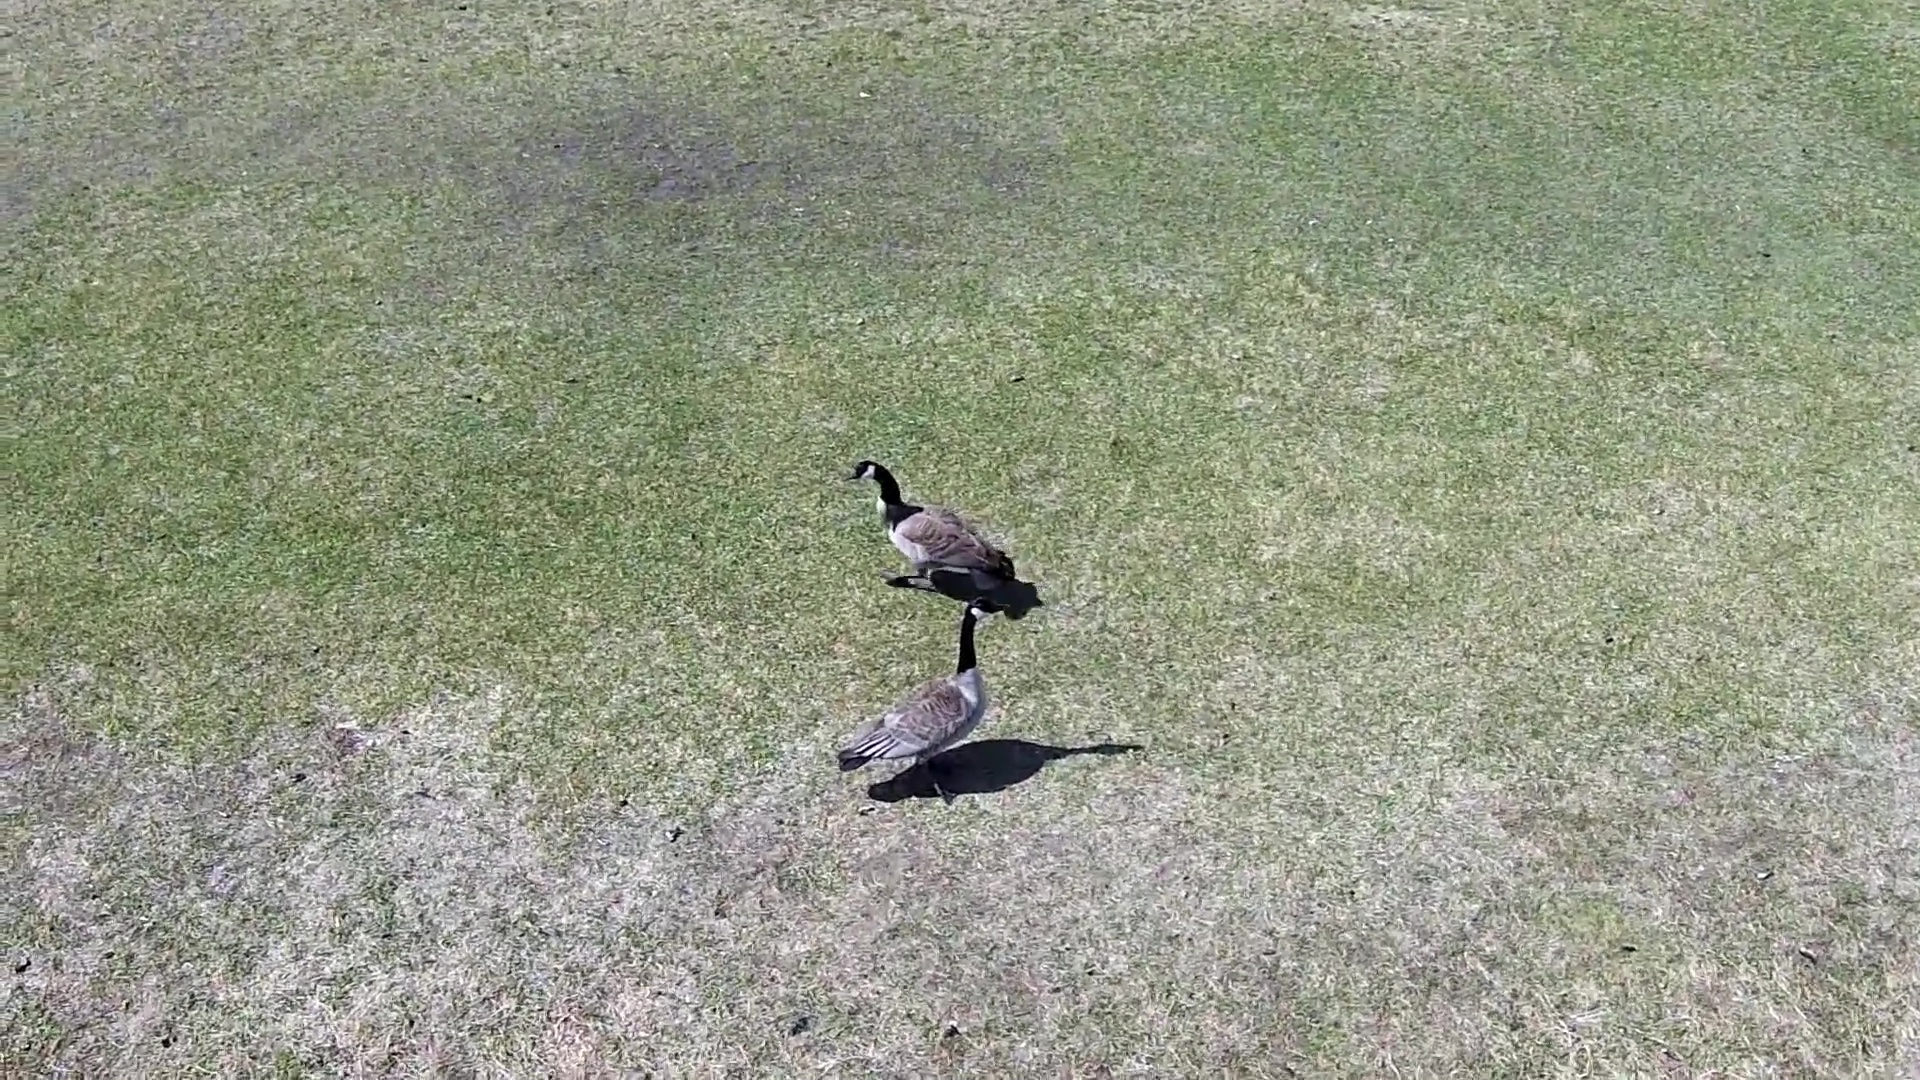goose: (829, 584, 1015, 802), (839, 458, 1029, 609)
